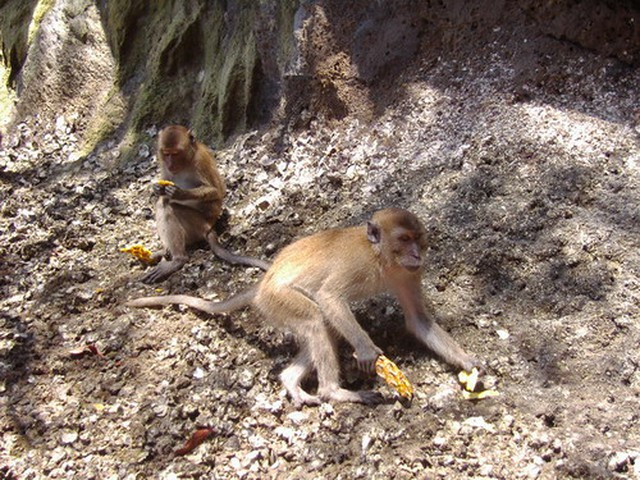Monkey: (246, 207, 493, 410), (139, 124, 237, 282)
